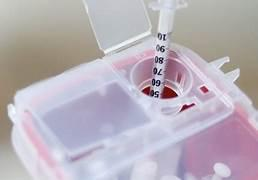Syringe: (150, 0, 176, 97)
